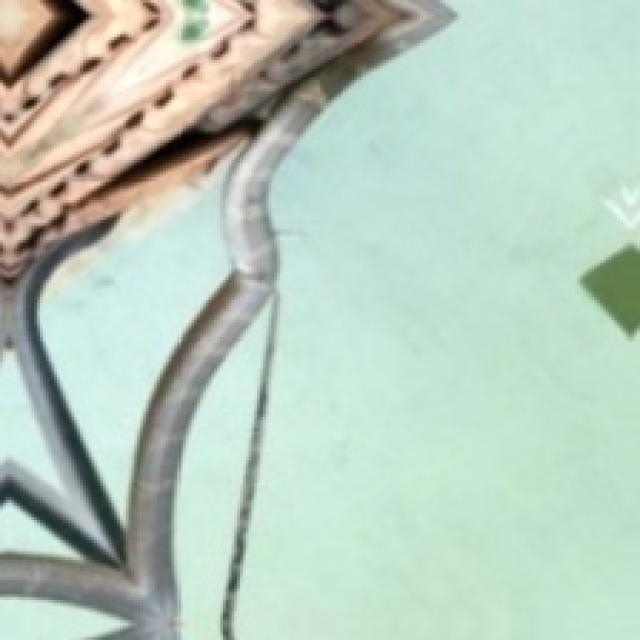king cobra: (0, 0, 451, 637)
